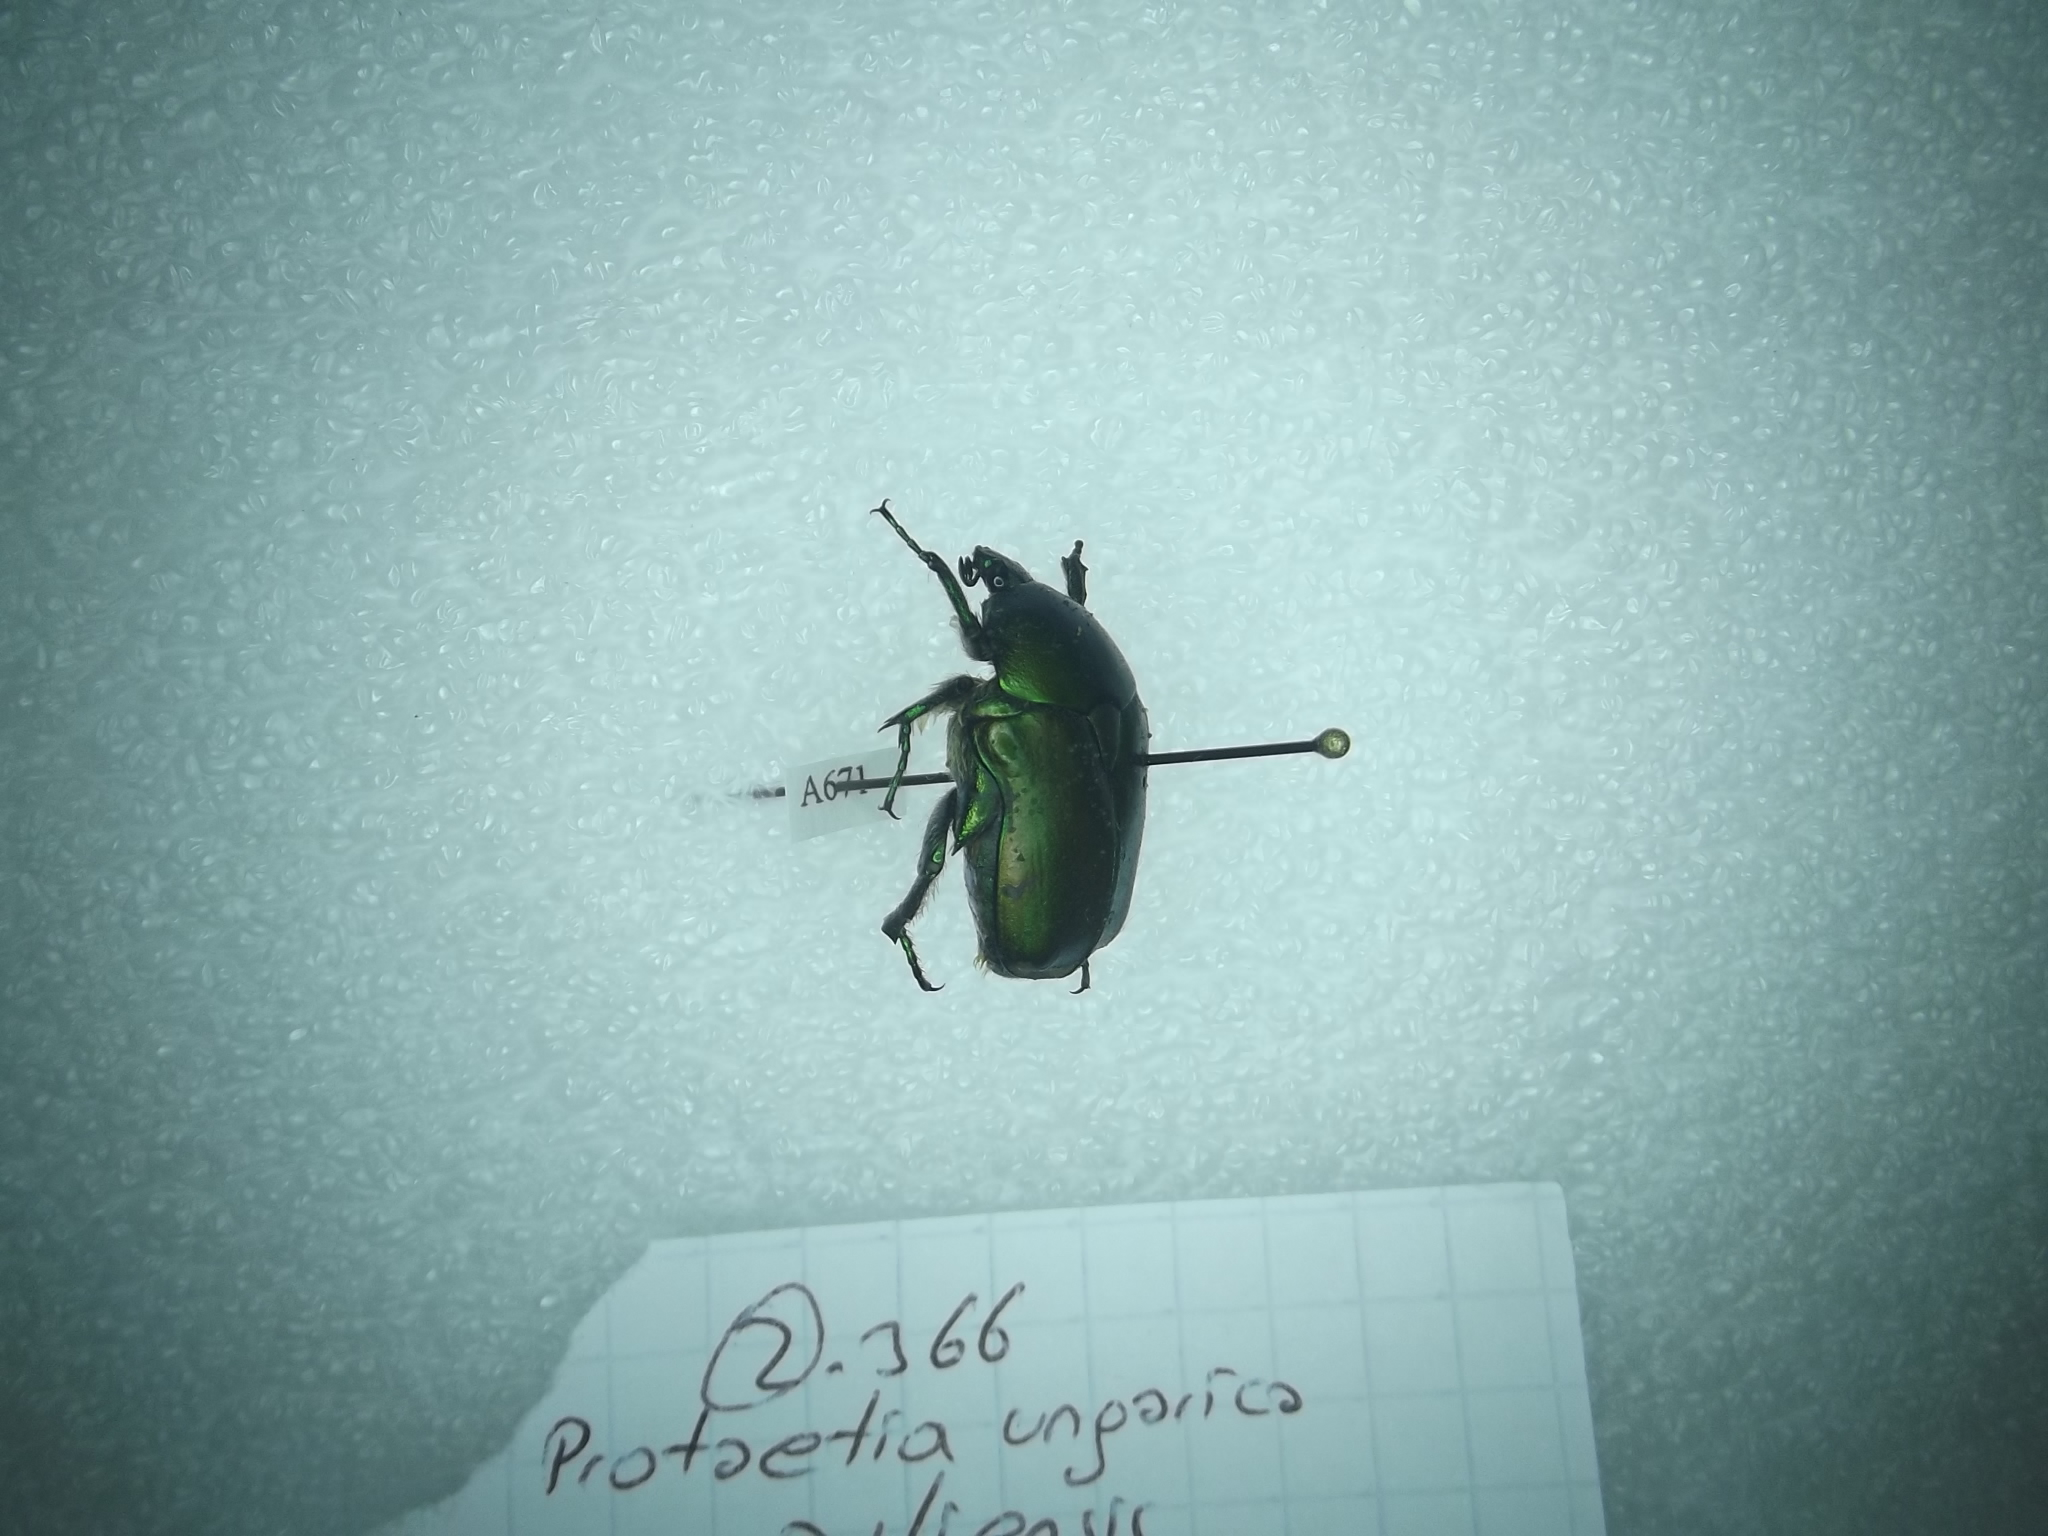Protaetia_ungarica_auliensis: (856, 473, 1155, 1028)
